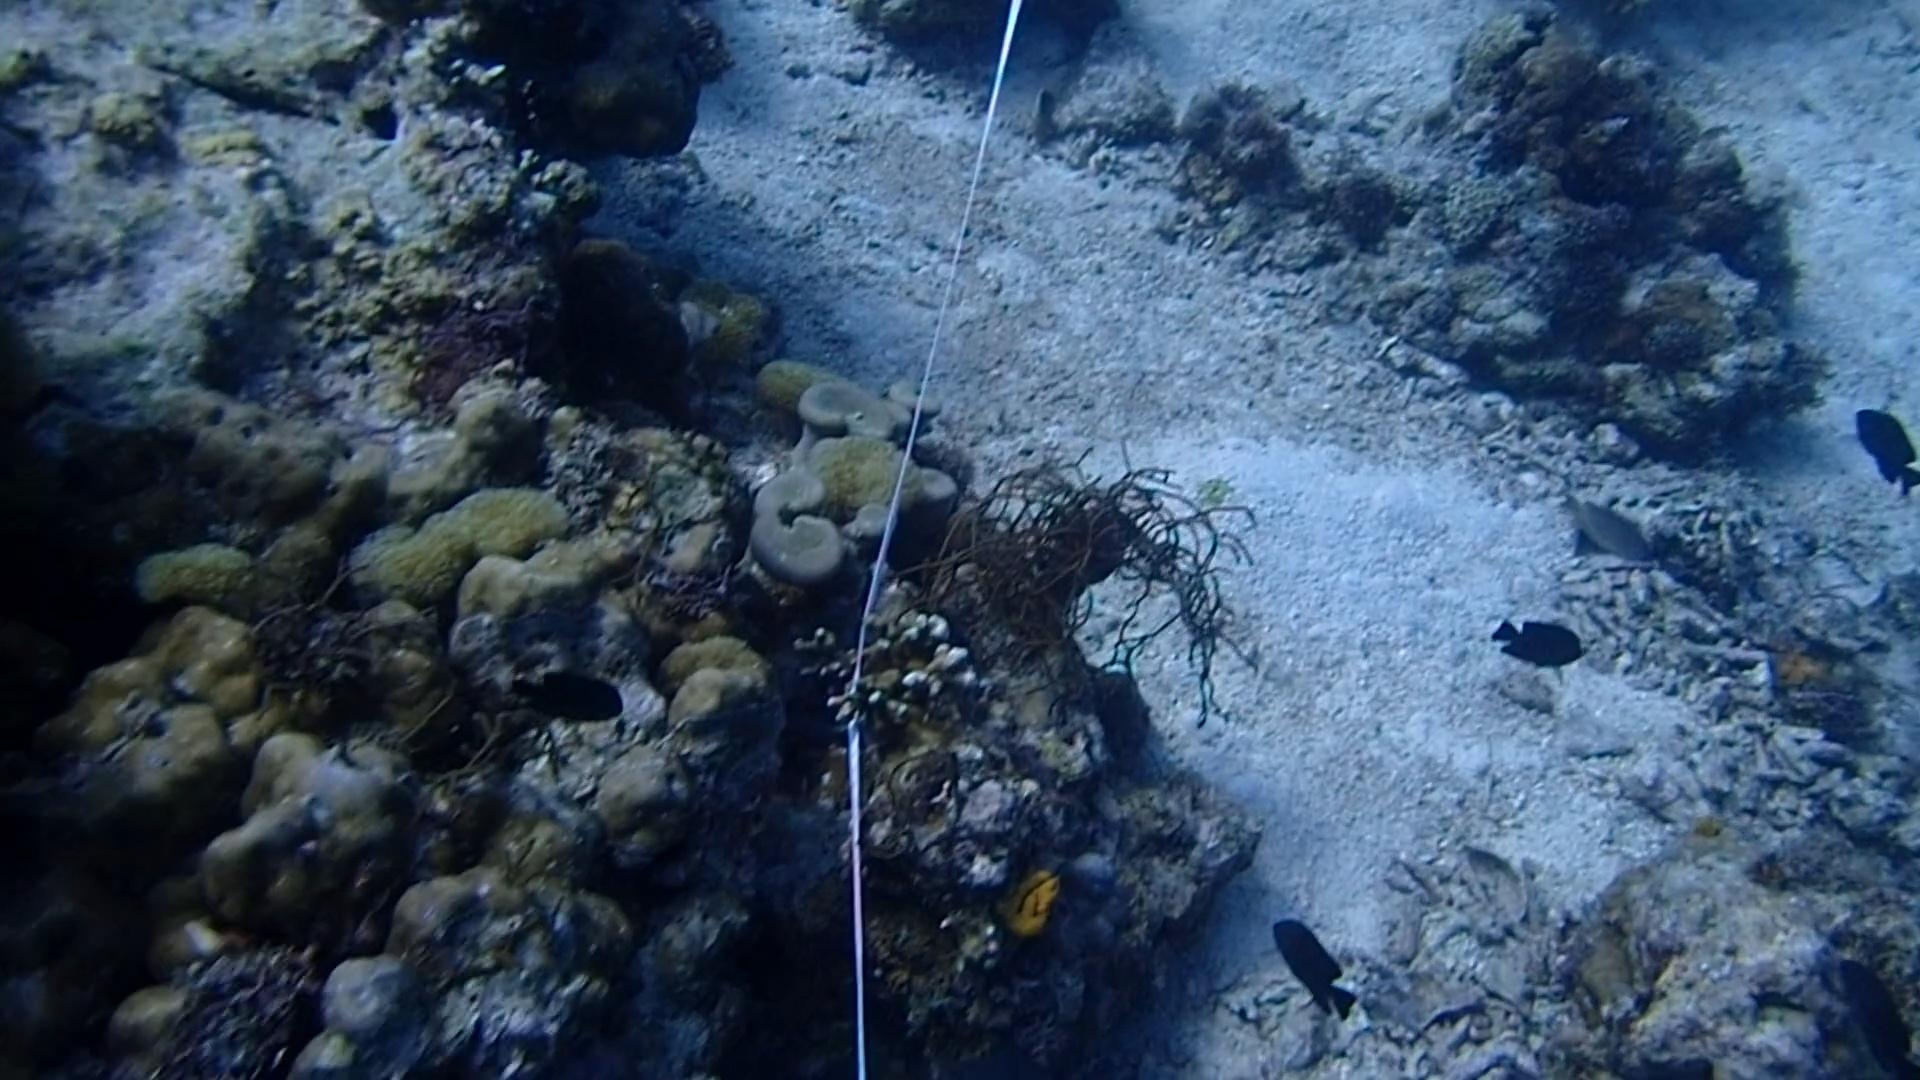Dark Fish: (1837, 951, 1920, 1080), (1258, 914, 1356, 1022), (1845, 400, 1920, 497), (1485, 609, 1577, 684)
Light Fish: (1560, 481, 1660, 574)
